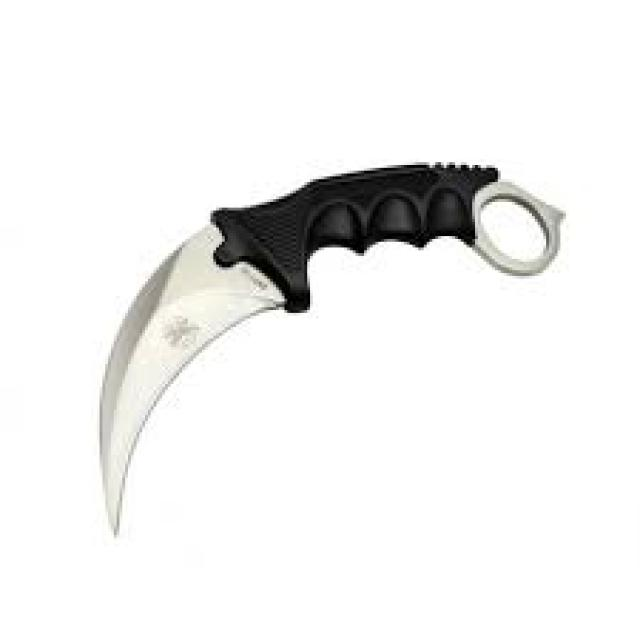knife: (93, 157, 575, 543)
